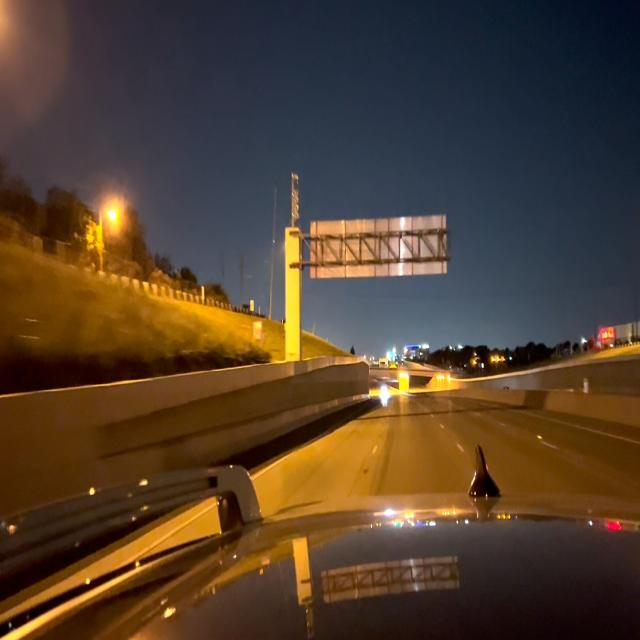back-of-sign: (312, 218, 444, 271)
